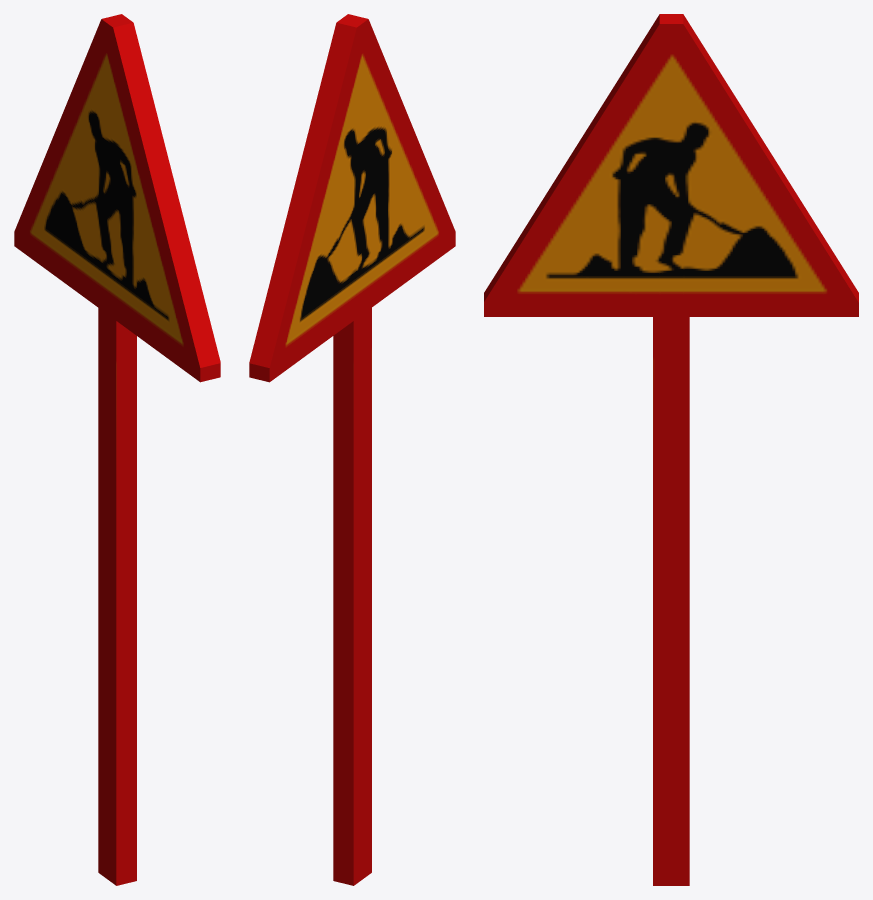
Rendered from sign15.FBX.
3 views of the same model, side by side, from view 1: azimuth 30°, elevation 25°; view 2: azimuth 150°, elevation 25°; view 3: azimuth 270°, elevation 25° (orthographic).
Parts seen in each view (by area): view 1: Box001; view 2: Box001; view 3: Box001.
Part boxes in pixels (<box>): Box001: <box>14,14,220,885</box>; Box001: <box>249,14,455,885</box>; Box001: <box>484,14,858,885</box>.
Size of the model in its own units: 0.5849 by 23.36 by 9.2.
